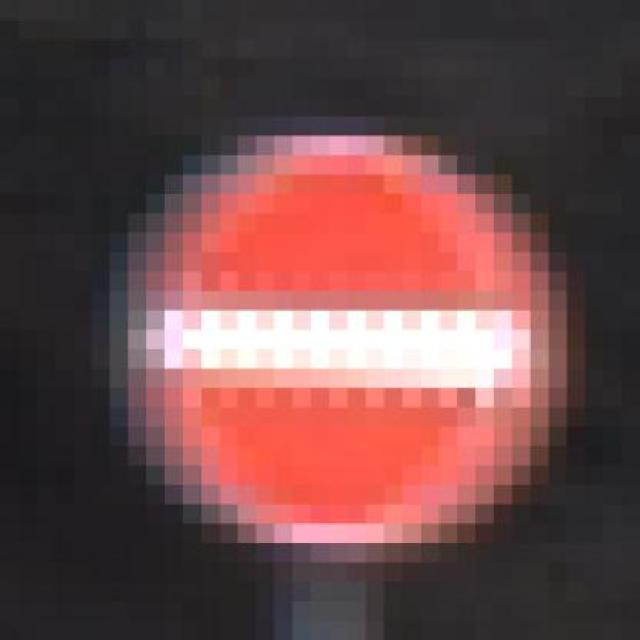B2: (126, 125, 566, 548)
